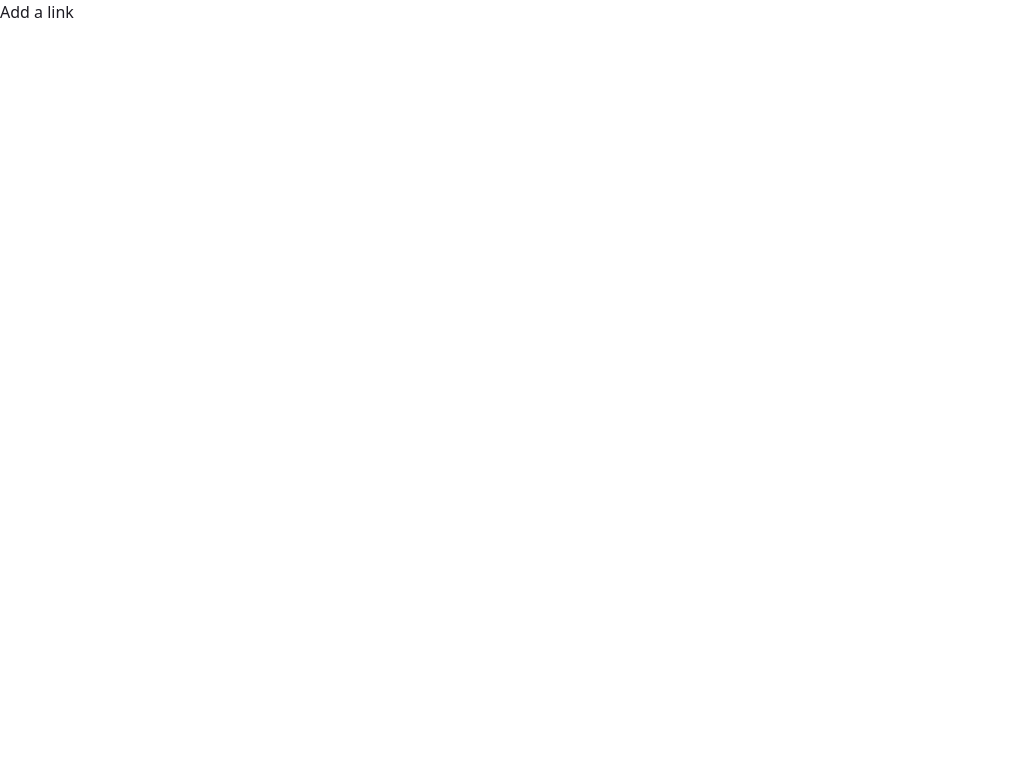
Test case: AddLinkDialog › previews the page, then adds it with the chosen labels
Step 1. Click the button "Add a link" → (37, 12), box [0, 0, 74, 24]
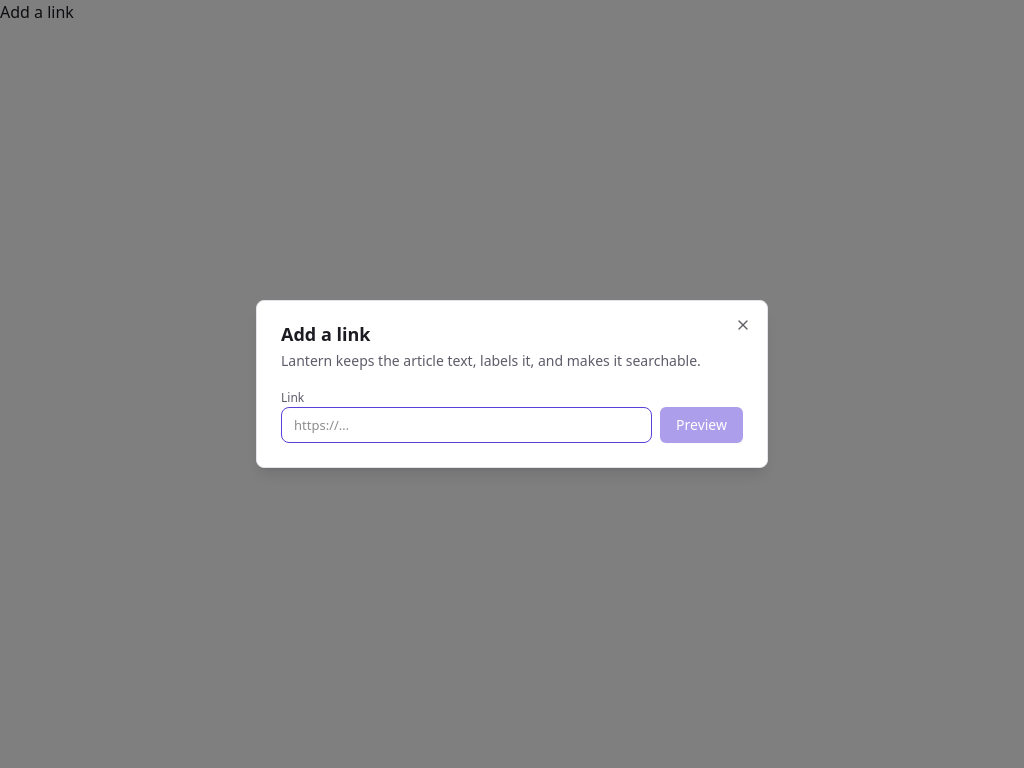
Step 2. Type "https://ised-isde.canada.ca/aida" into the field with placeholder "https://…" → (467, 425), box [281, 407, 652, 443]
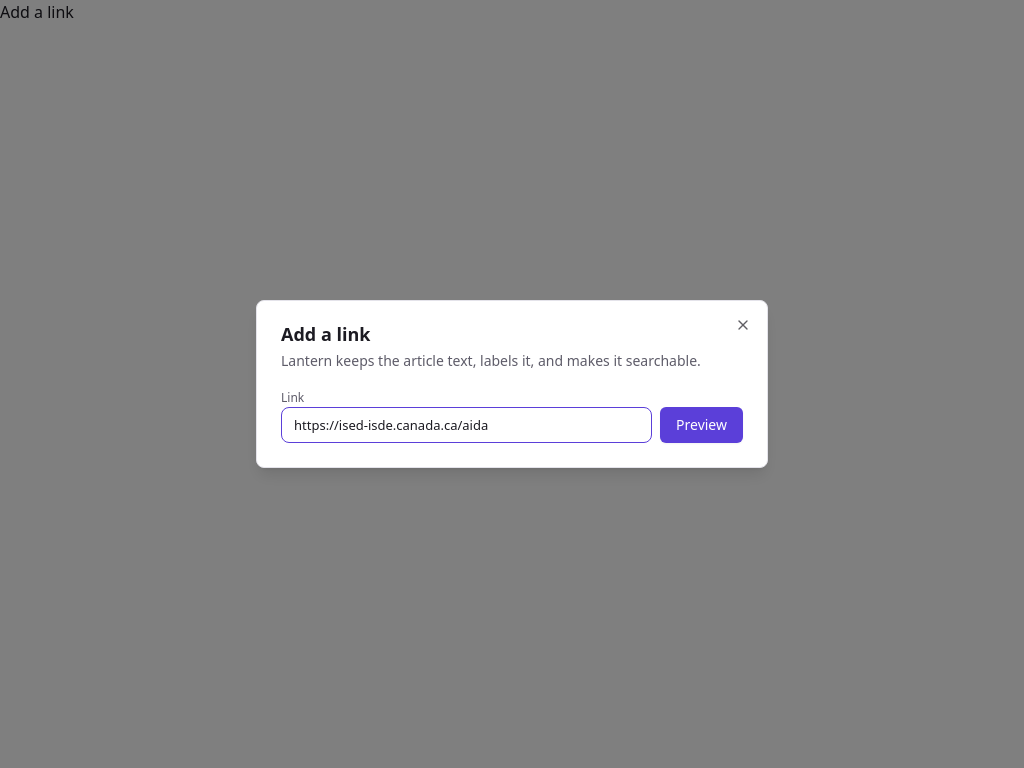
Step 3. Click the button "Preview" → (702, 425), box [660, 407, 743, 443]
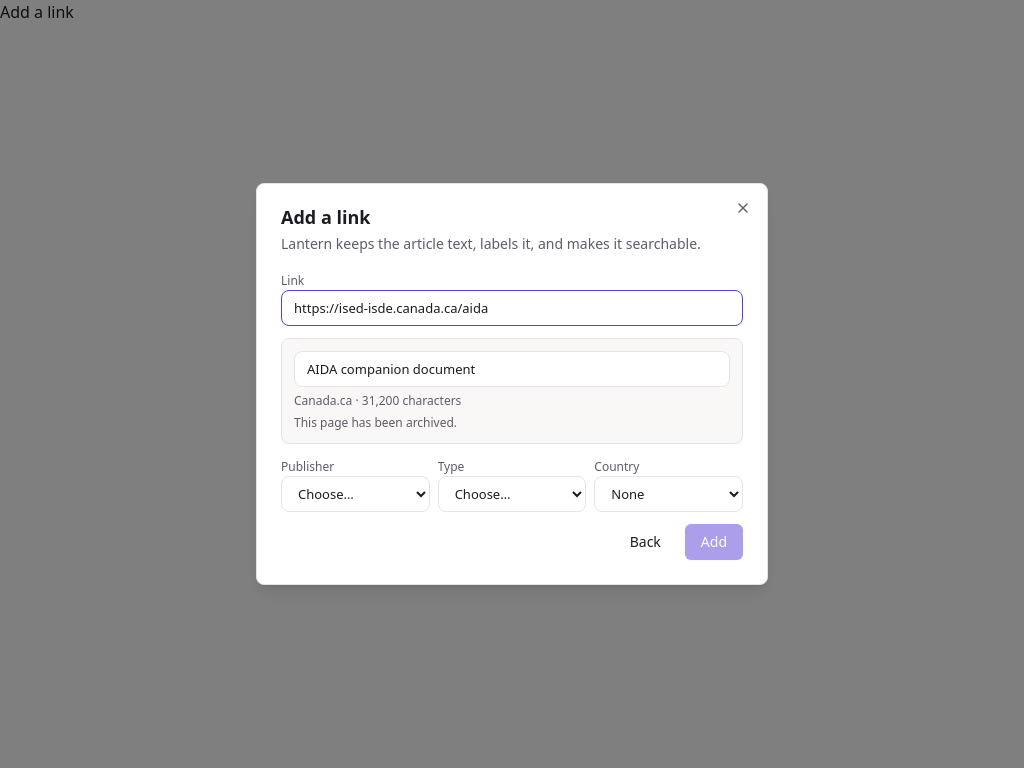
Now the field showing "AIDA companion document" is shown, box [294, 351, 730, 387]
Now the text "Canada.ca · 31,200 characters" is shown, box [294, 392, 461, 409]
Now the button "Add" is disabled, box [685, 524, 743, 560]
Step 4. Select "Government" in the dropdown labelled "Publisher" → (355, 494), box [281, 476, 430, 512]
Step 5. Select "Guidance" in the dropdown labelled "Type" → (512, 494), box [438, 476, 586, 512]
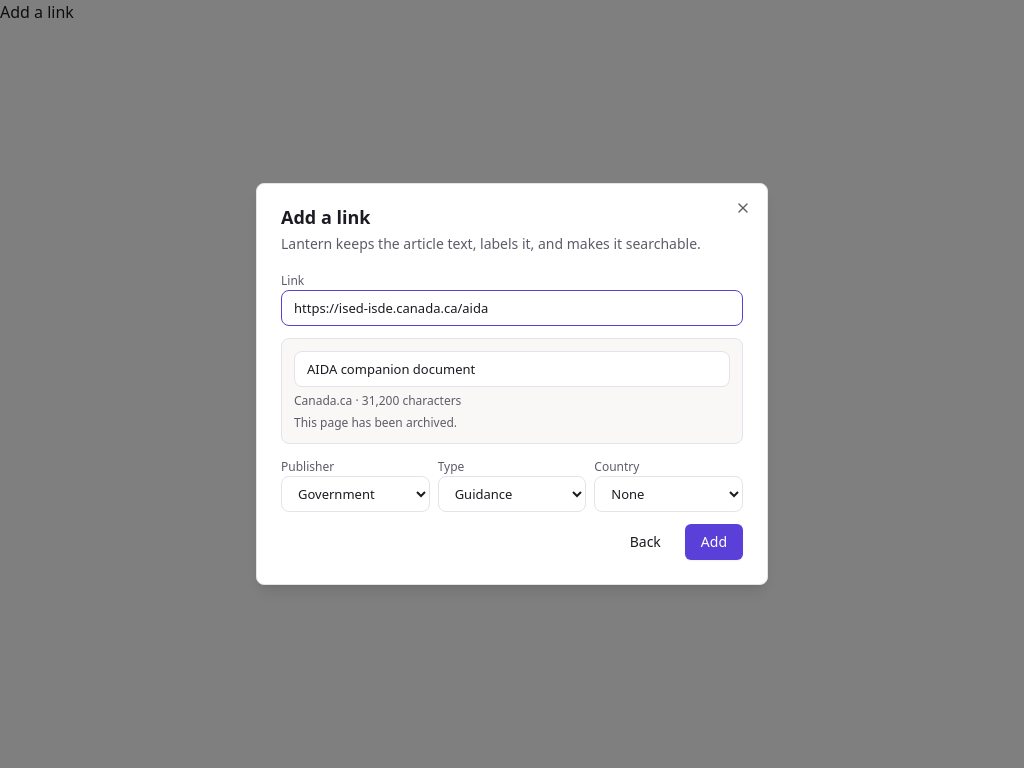
Step 6. Select "Canada" in the dropdown labelled "Country" → (669, 494), box [594, 476, 743, 512]
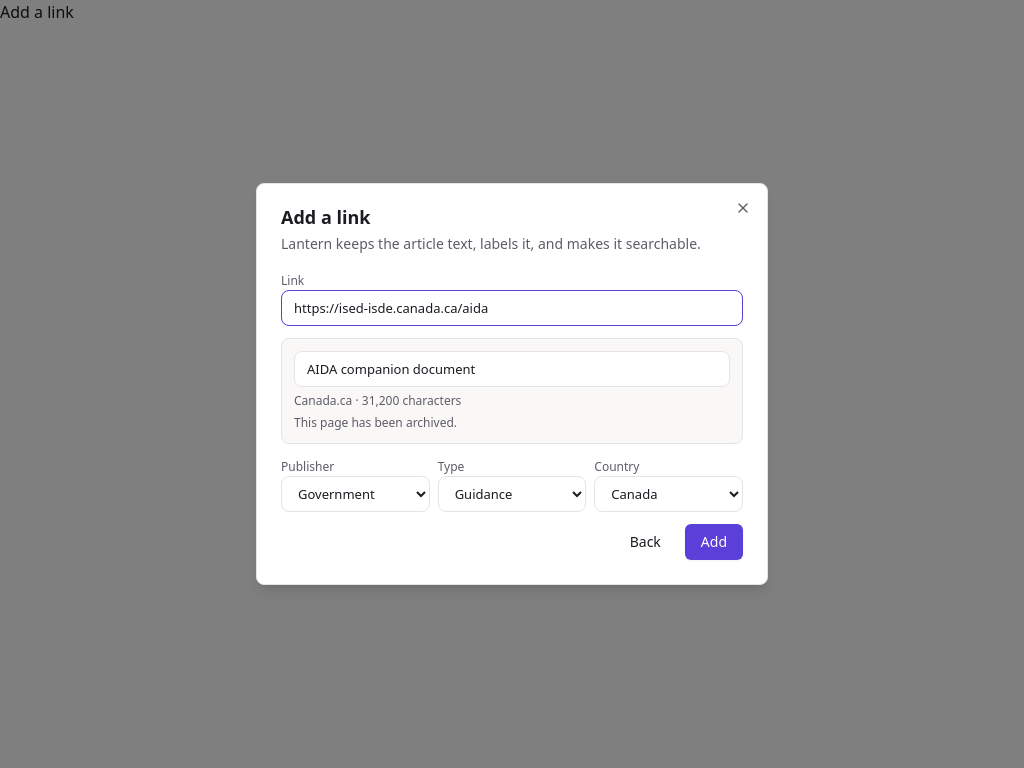
Step 7. Click the button "Add" → (714, 542), box [685, 524, 743, 560]
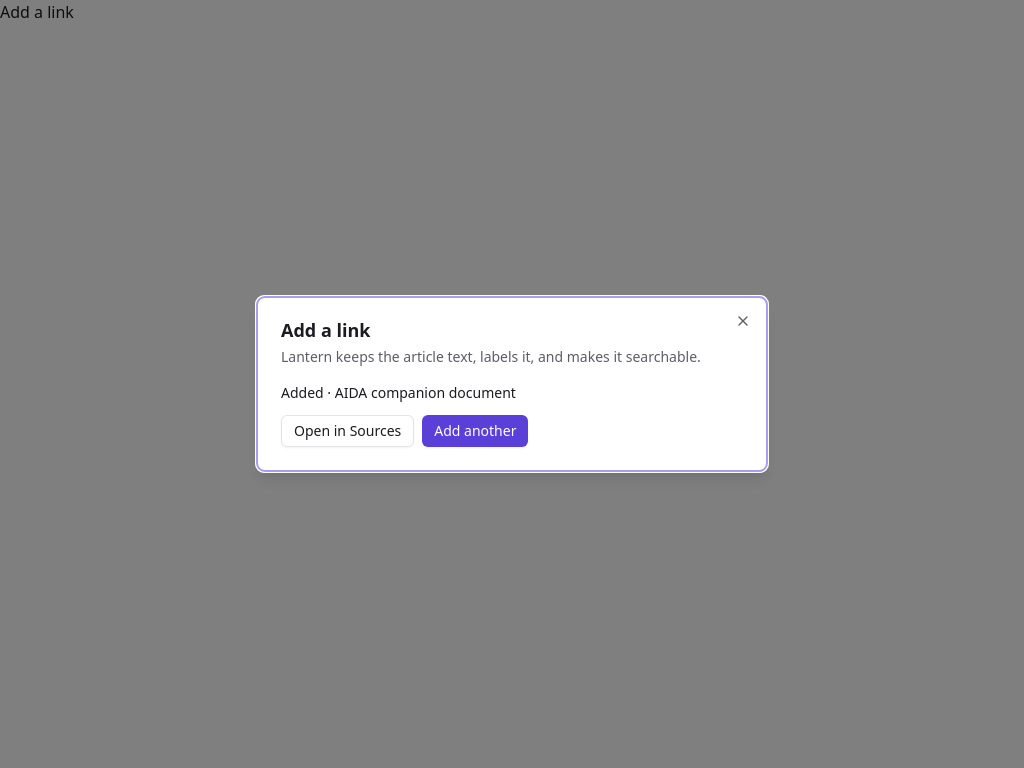
Now the message shows "Added", box [281, 383, 324, 402]
